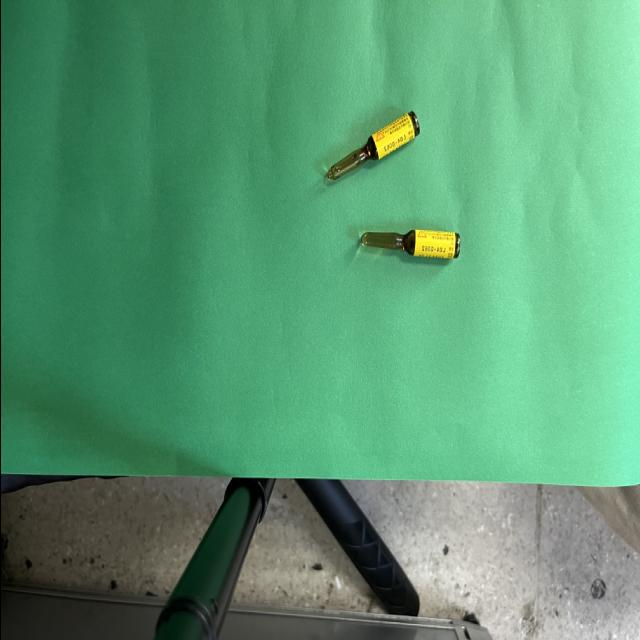Ampoules: (326, 112, 419, 181), (360, 230, 459, 259)
